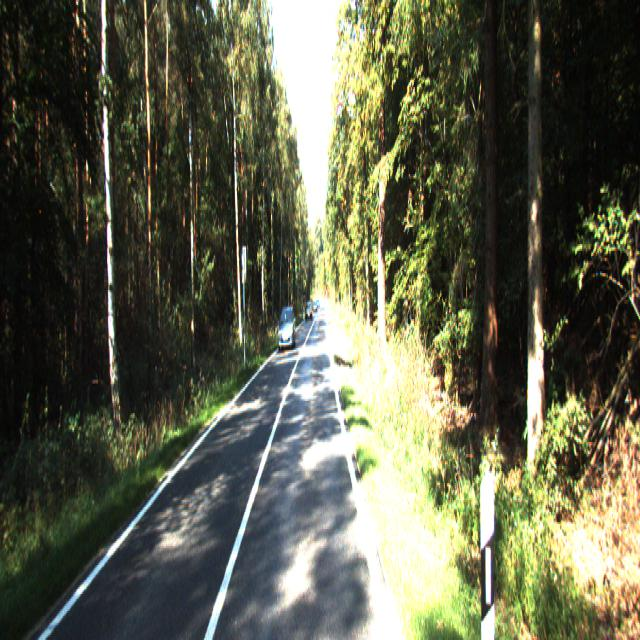Car: (278, 304, 297, 352)
